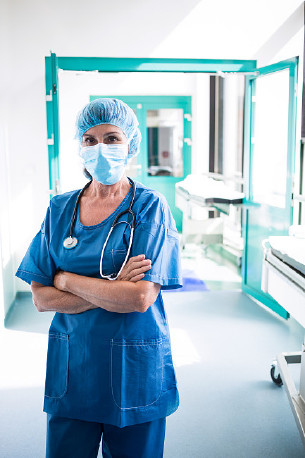face_mask: (83, 114, 126, 184)
